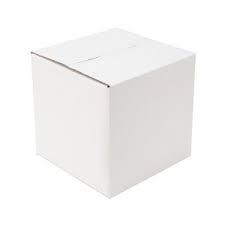cube: (29, 28, 195, 197)
